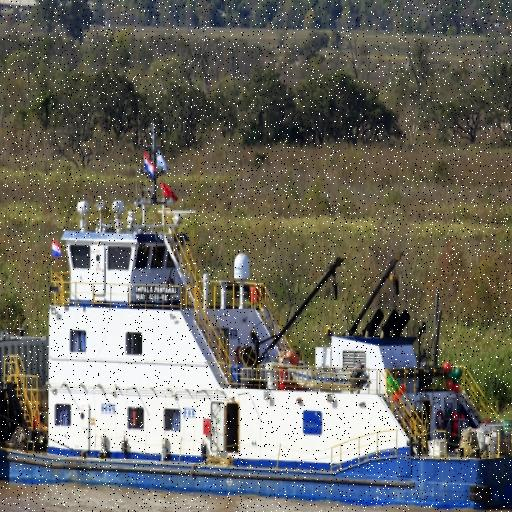tugboat: (1, 130, 512, 512)
